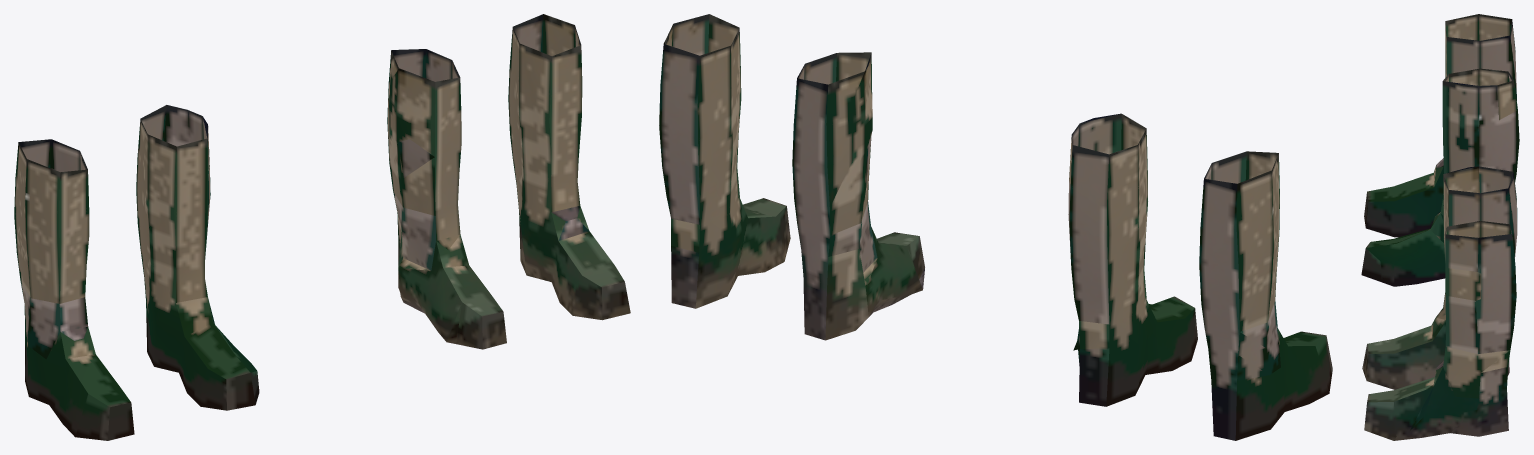
The model's file is rubber_boots.glb.
3 renders of one model, left to right at view 1: azimuth 30°, elevation 25°; view 2: azimuth 150°, elevation 25°; view 3: azimuth 270°, elevation 25°, orthographic. The views are drawn at different scales.
Visible parts, largest first — view 1: mesh; view 2: mesh; view 3: mesh.
Boxes of the visible parts, bbox=[...] form: mesh: bbox=[14, 14, 630, 440]; mesh: bbox=[659, 14, 1332, 440]; mesh: bbox=[1361, 14, 1519, 440].
Size of the model in its own units: 0.8924 by 0.373 by 0.2637.
1 material, 1 textured.
